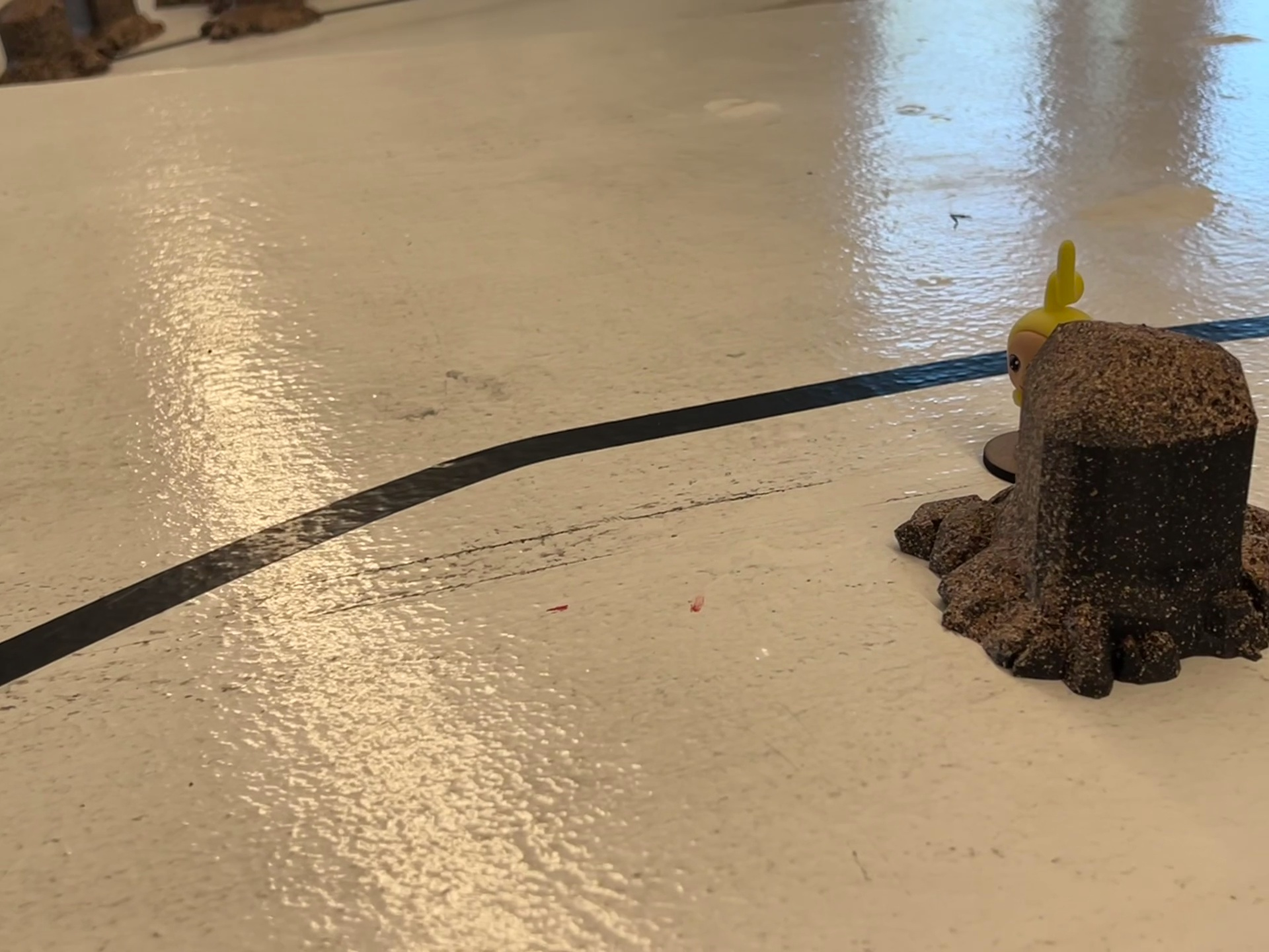teletubby: (1008, 241, 1091, 406)
